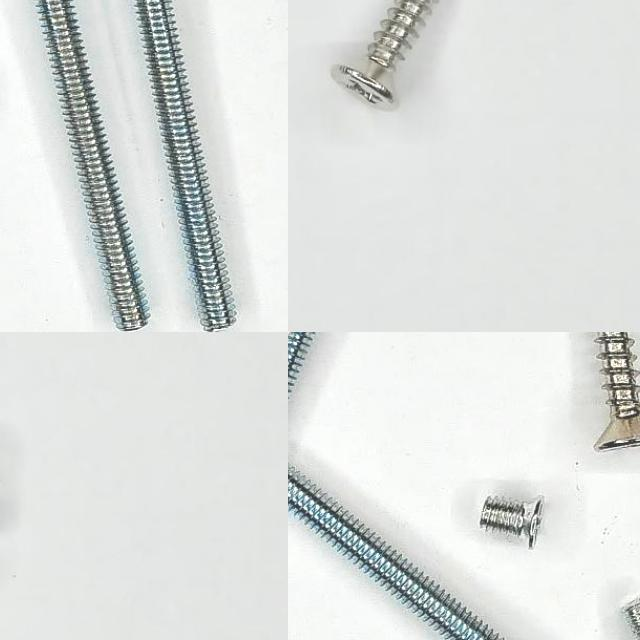Screw: (36, 0, 149, 332), (288, 466, 503, 640), (135, 0, 236, 332), (330, 0, 434, 107), (594, 332, 640, 452), (480, 497, 544, 549), (621, 599, 640, 640)
